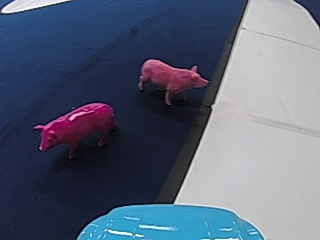pig: (29, 99, 118, 156), (135, 55, 204, 103)
